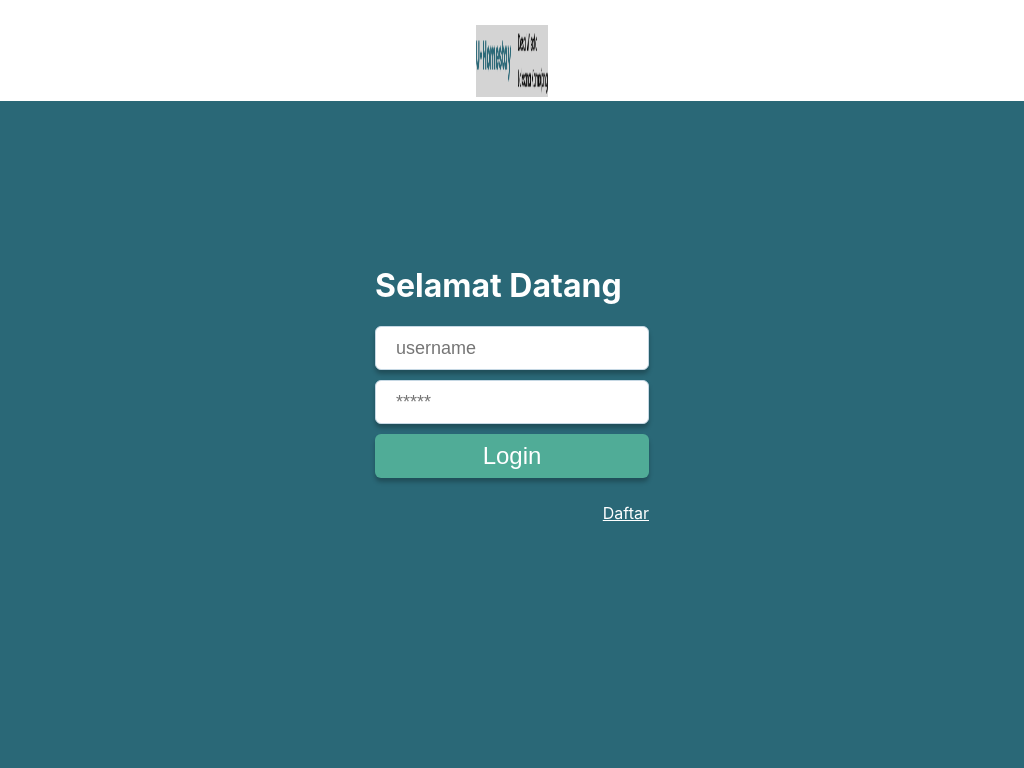
Member fail login without username
Type "password" into the password field with placeholder "*****" at coordinates (512, 402), box [375,380,649,424]
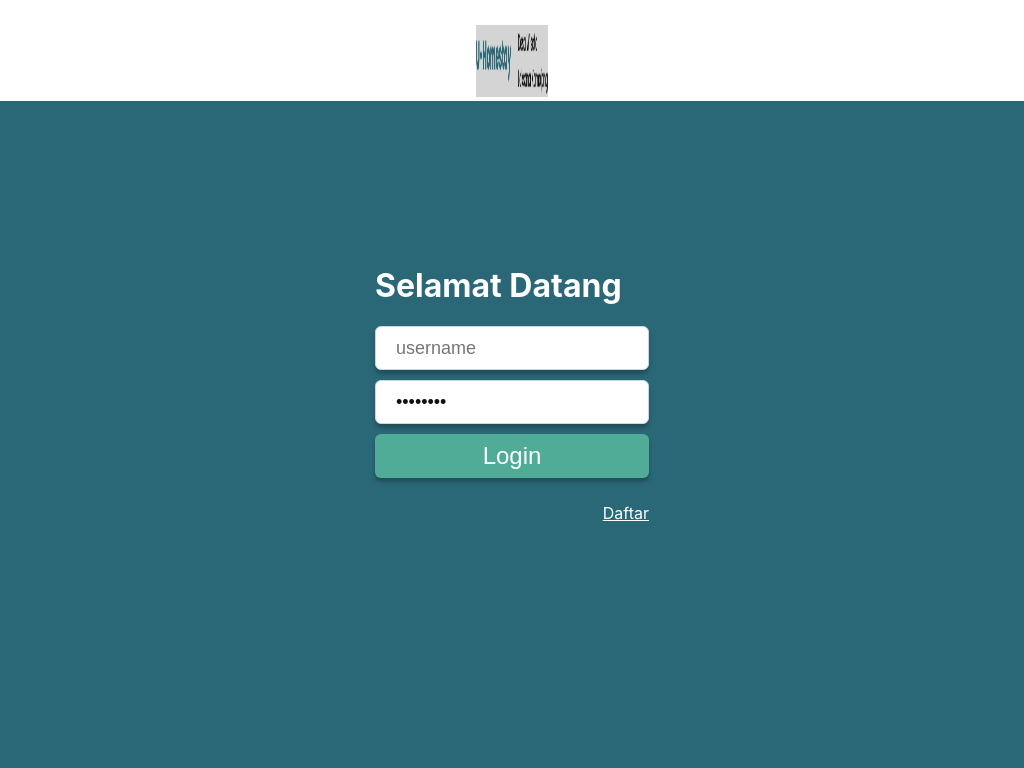
Click the button "Login" at coordinates (512, 456), box [375,434,649,478]
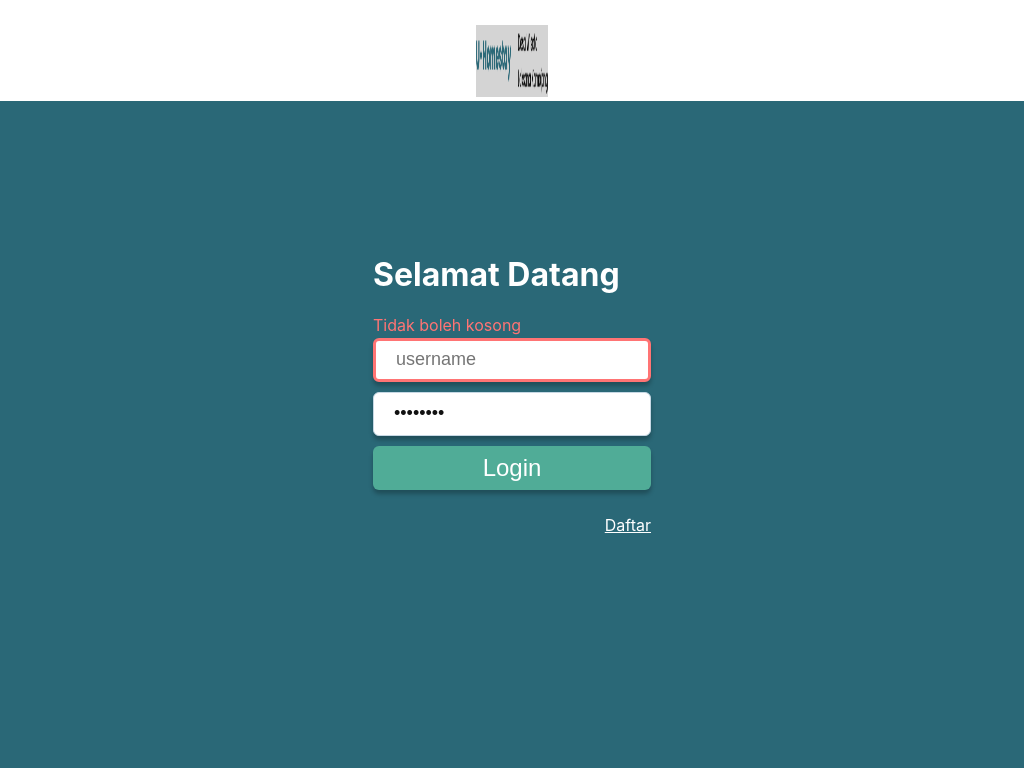
Expected: the text "Tidak boleh kosong" is shown, [373,315,521,335]
